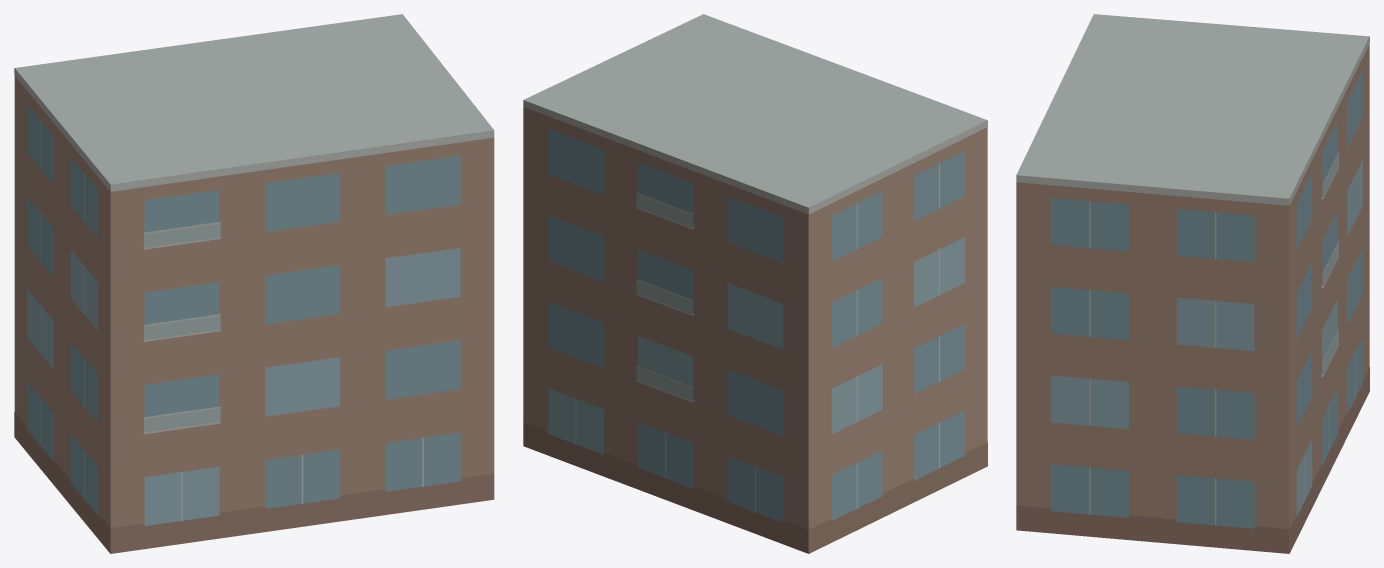
The model's file is survey-upis-32669888.glb.
The picture shows the model from 3 angles, left to right: view 1: azimuth 30°, elevation 25°; view 2: azimuth 150°, elevation 25°; view 3: azimuth 270°, elevation 25°; orthographic projection. The views are drawn at different scales.
Visible parts, largest first — view 1: survey-upis-32669888.tmp; view 2: survey-upis-32669888.tmp; view 3: survey-upis-32669888.tmp.
Boxes of the visible parts, box(x1,y1,x2,y2) form: survey-upis-32669888.tmp: box(14, 14, 494, 553); survey-upis-32669888.tmp: box(523, 14, 987, 553); survey-upis-32669888.tmp: box(1016, 14, 1369, 553).
Size of the model in its own units: 13.79 by 12.35 by 11.15.
